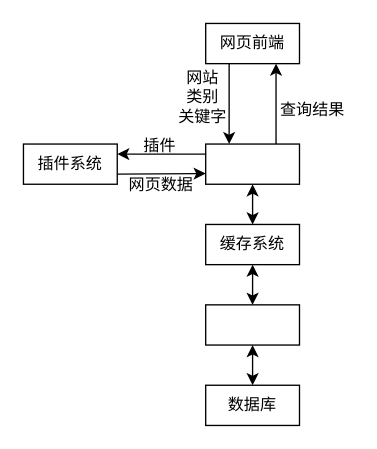
This 377x449 diagram has some shape labels left out. The shapes that lost their labels are listed below. From the top down, each one's centre as x and y in pixels, then its label:
point (251, 163): 总控
point (251, 324): 查询系统
